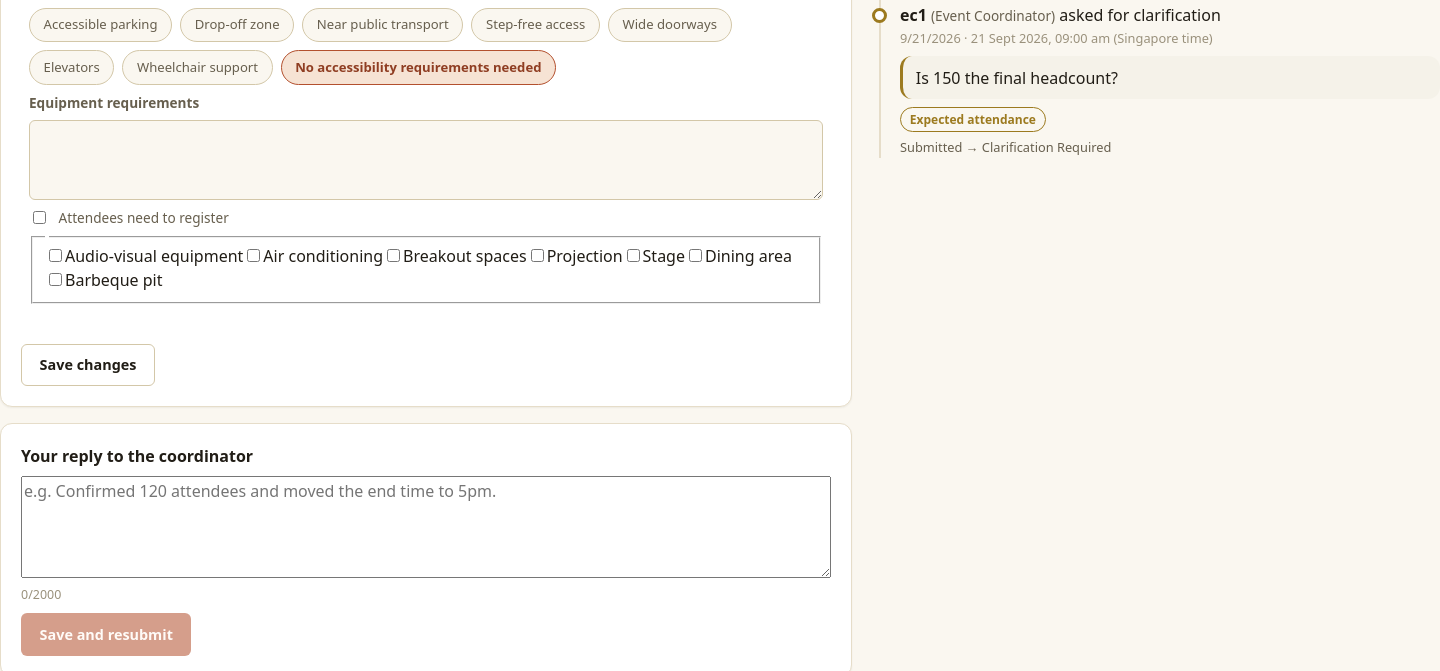
Test case: ClarificationResponsePage (EO26) › EO-C2 AC3, AC6 (boundary): a reply that leaves the event ending when it starts is explained next to the end and cannot be resubmitted
(page scrolled)
In the text box labelled "Your reply to the coordinator": (426, 528) x1=21 y1=476 x2=831 y2=578, type "Updated the times"
(page scrolled)
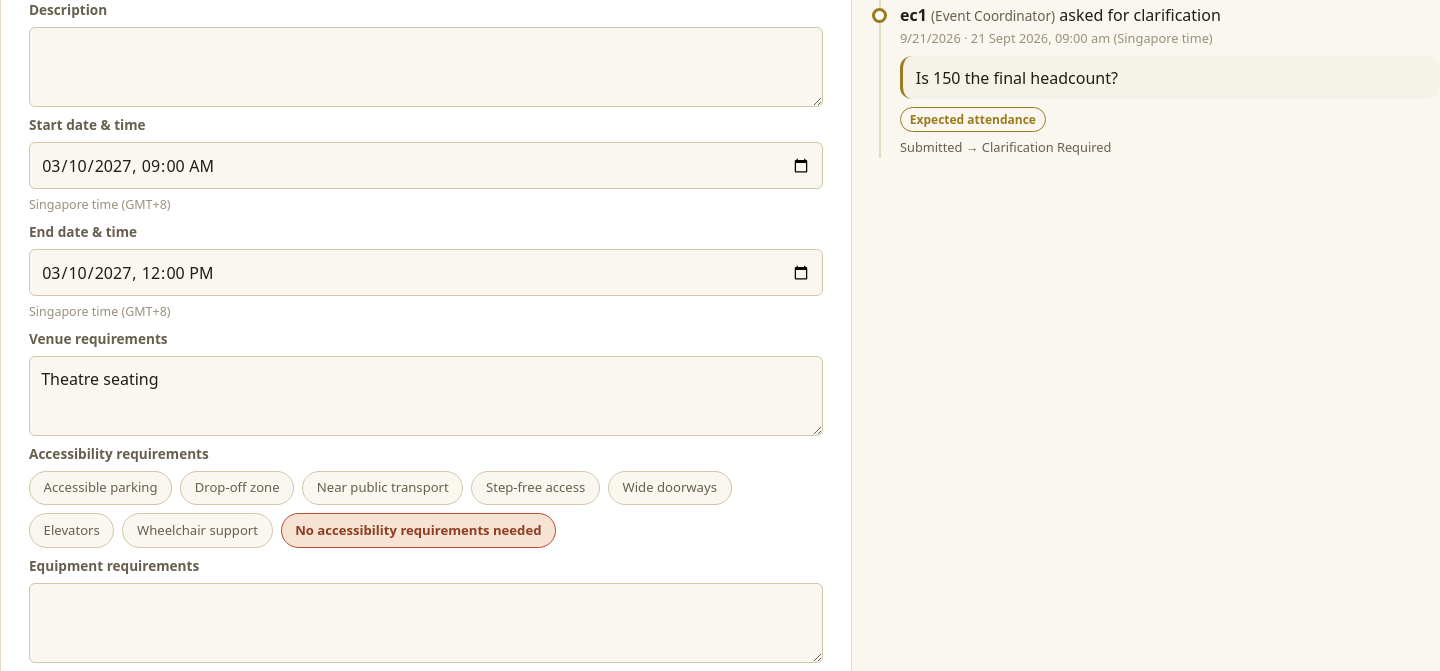
Replace the text in the field labelled "End date & time" with "2027-03-10T09:00": (426, 273) x1=29 y1=249 x2=823 y2=296
(page scrolled)
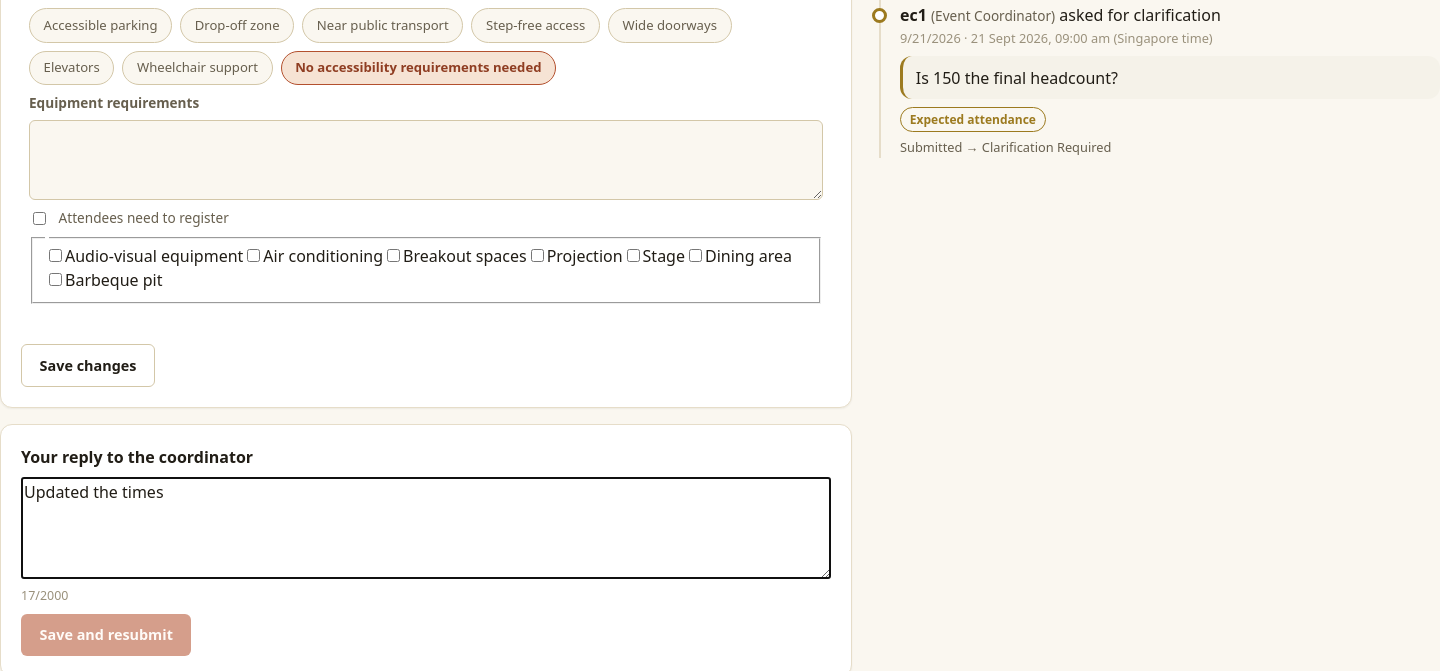
Check: the button "Save and resubmit" is disabled, box x1=21 y1=614 x2=192 y2=656
